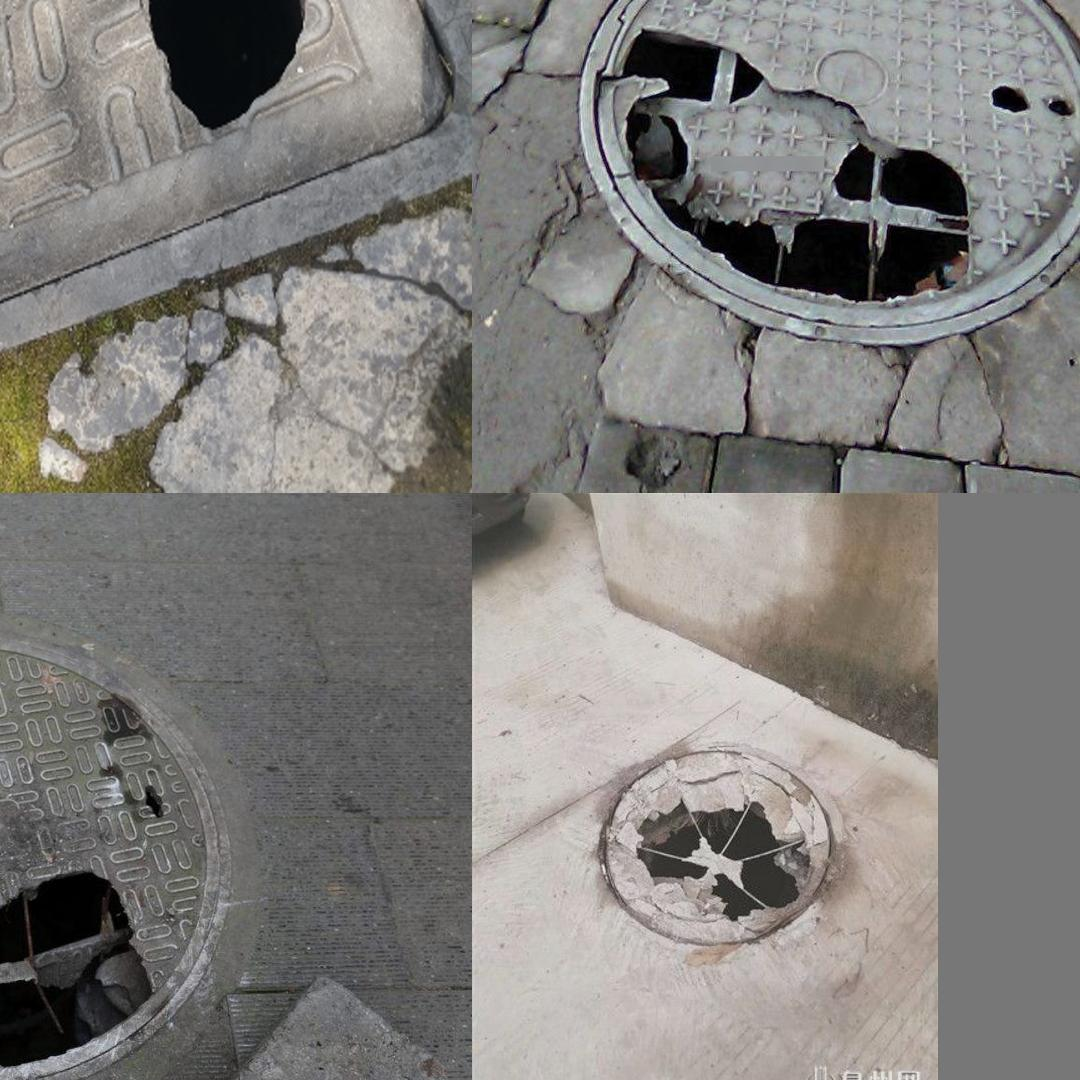broke: (577, 0, 1080, 345), (0, 0, 350, 383), (0, 624, 232, 1080), (582, 728, 859, 964)
